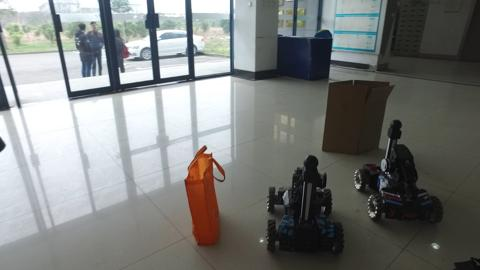bag: (182, 145, 219, 239)
box: (325, 74, 377, 154)
chariot: (358, 118, 443, 226), (267, 152, 345, 255)
